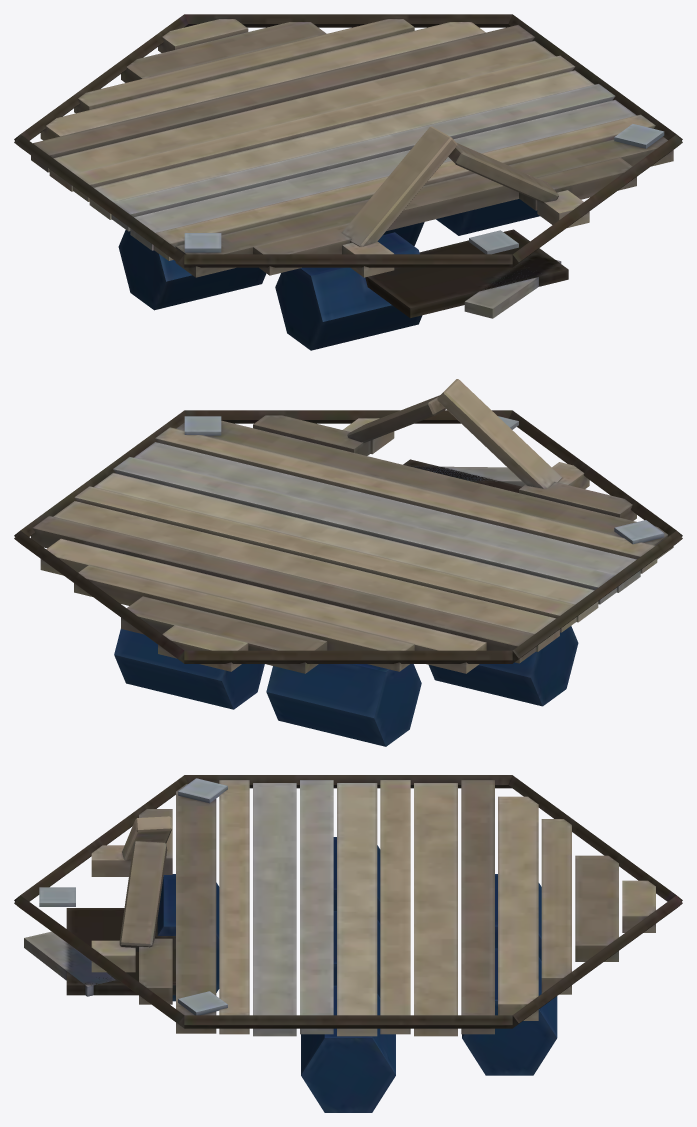
File: raft-damaged-age10-lite.glb
3 views of the same model, one above another, from view 1: azimuth 30°, elevation 25°; view 2: azimuth 150°, elevation 25°; view 3: azimuth 270°, elevation 25° (orthographic).
Visible parts, largest first — view 1: raft-damaged-age10-lite; view 2: raft-damaged-age10-lite; view 3: raft-damaged-age10-lite.
Boxes of the visible parts, x1,y1,x2,y2 form: raft-damaged-age10-lite: (14, 14, 682, 350); raft-damaged-age10-lite: (14, 379, 682, 746); raft-damaged-age10-lite: (14, 775, 682, 1112).
Size of the model in its own units: 1.59 by 0.5784 by 1.83.
1 material, 1 textured.
